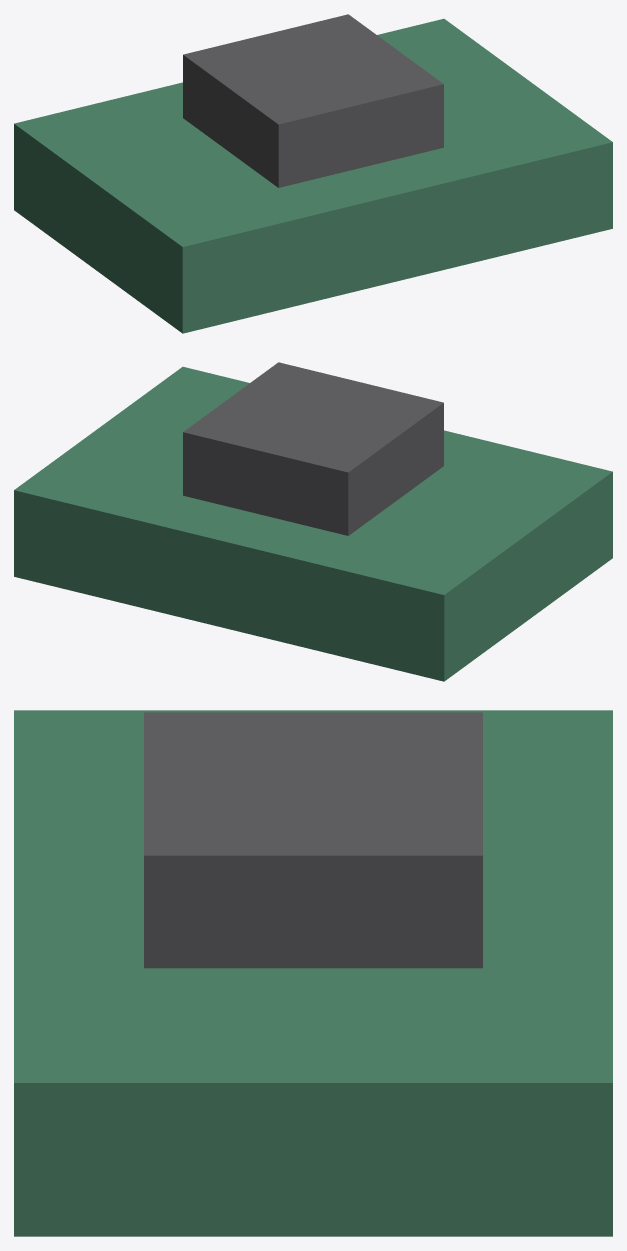
Rendered from tb6612fng.glb.
The picture shows the model from 3 angles, top to bottom: view 1: azimuth 30°, elevation 25°; view 2: azimuth 150°, elevation 25°; view 3: azimuth 270°, elevation 25°; orthographic projection. The views are drawn at different scales.
Visible parts, largest first — view 1: tb6612fng-pcb, tb6612fng-ic; view 2: tb6612fng-pcb, tb6612fng-ic; view 3: tb6612fng-pcb, tb6612fng-ic.
Part boxes in pixels (<box>): tb6612fng-pcb: <box>14,18,612,333</box>; tb6612fng-ic: <box>183,14,443,187</box>; tb6612fng-pcb: <box>14,366,612,681</box>; tb6612fng-ic: <box>183,362,443,535</box>; tb6612fng-pcb: <box>14,710,612,1236</box>; tb6612fng-ic: <box>144,712,482,968</box>.
Size of the model in its own units: 0.0078 by 0.0026 by 0.0053.
